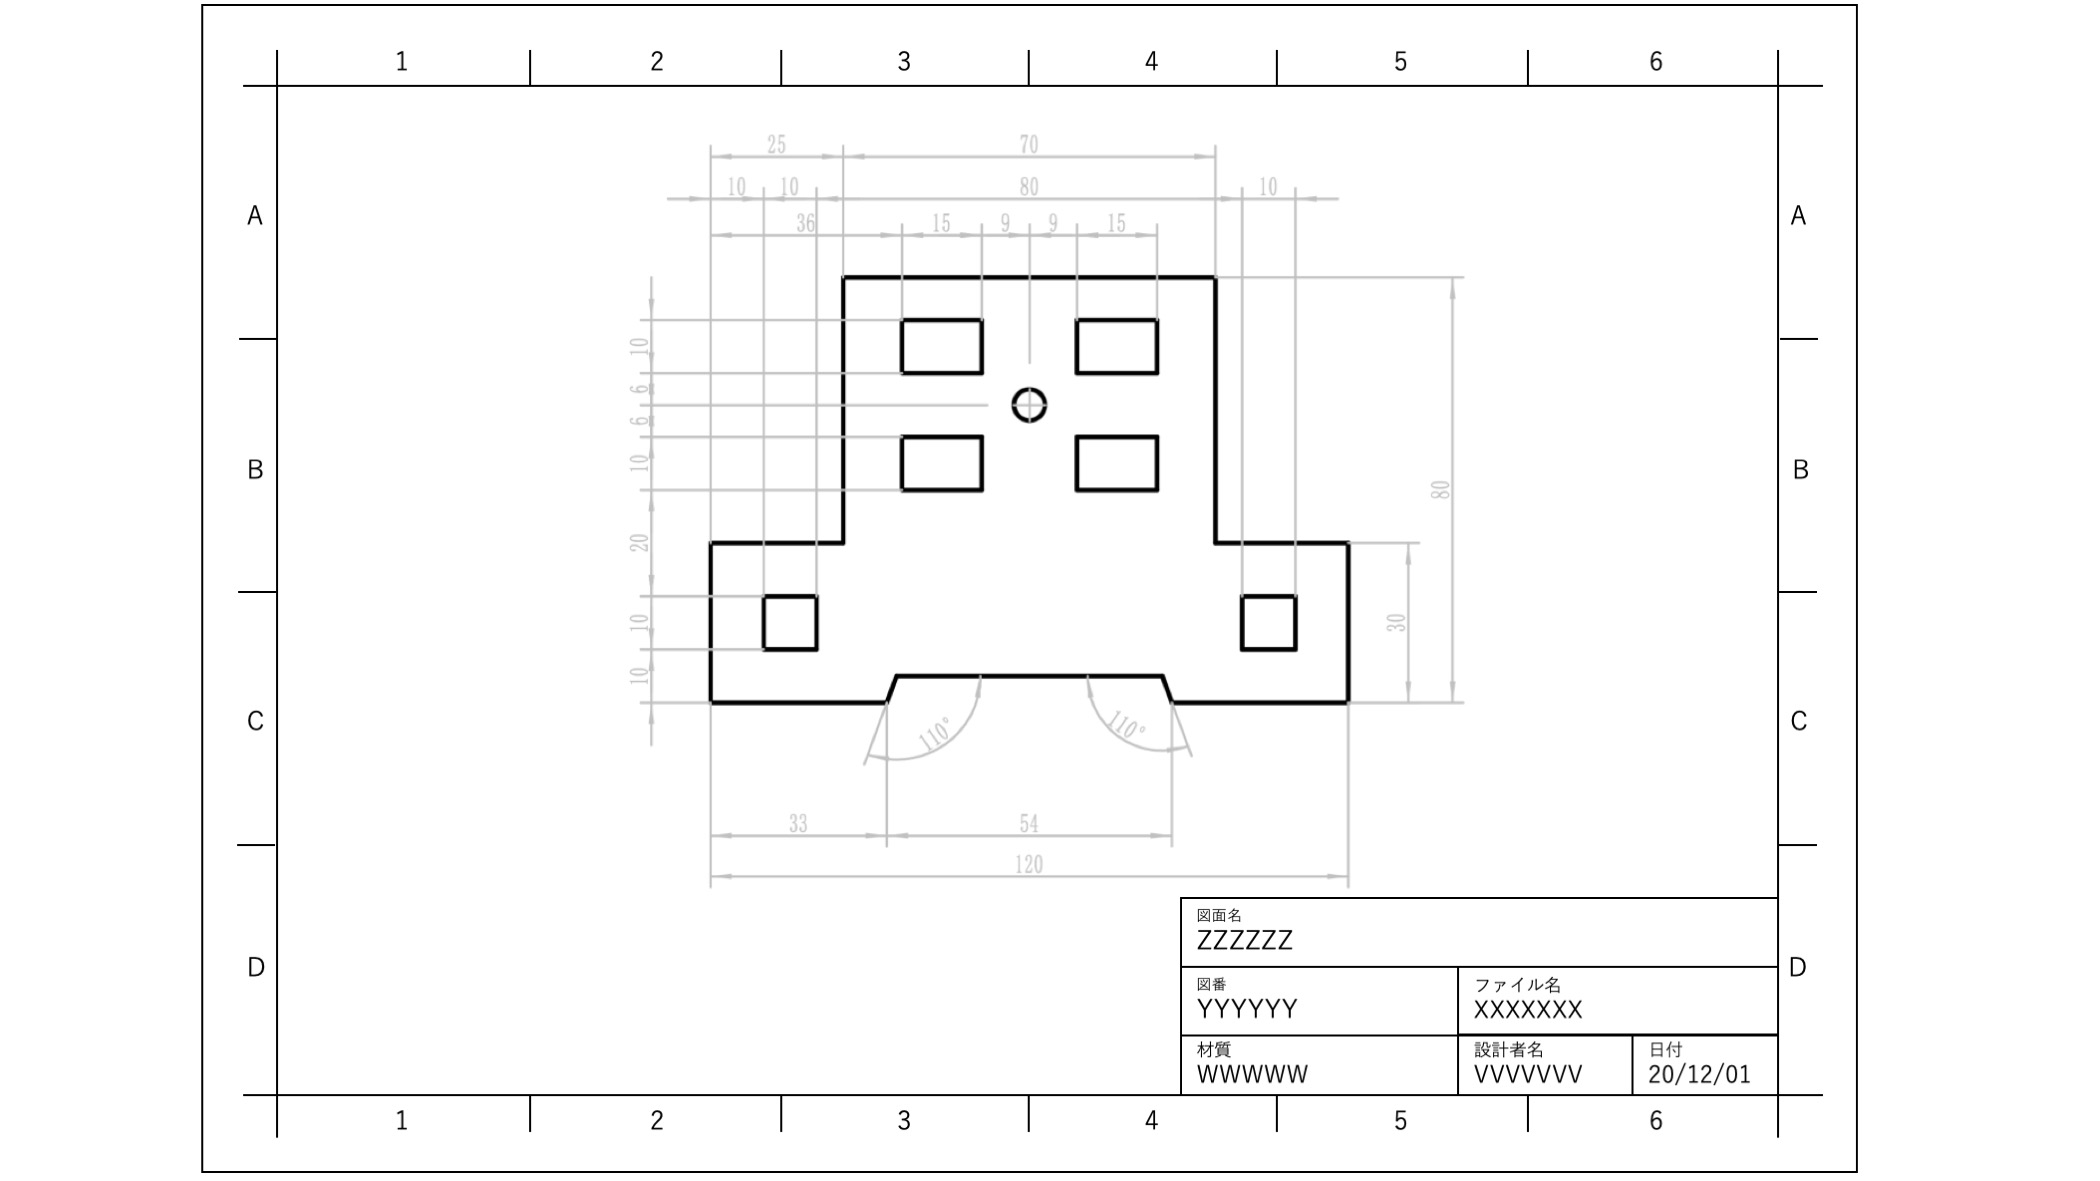circle: (1004, 381, 1049, 430)
rectangle: (888, 304, 989, 385), (896, 423, 995, 503), (1064, 311, 1160, 385), (1072, 425, 1164, 497), (1236, 580, 1314, 662), (759, 575, 829, 658)
